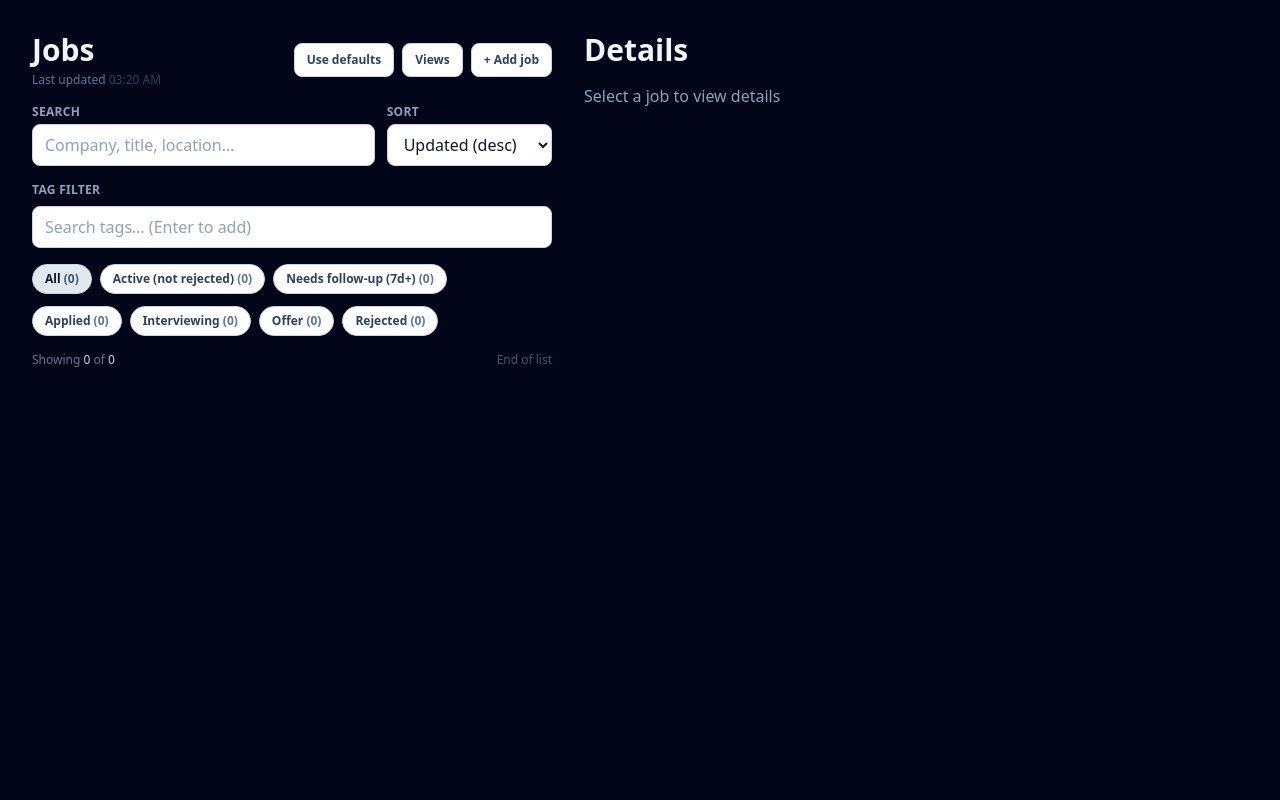
Test: JobsPage (auto-refresh) › does not auto refresh when a modal is open
This screenshot has width=1280, height=800.
Click the button "+ Add job".
click(511, 60)  # box [471,43,552,77]
Wait 1100 ms
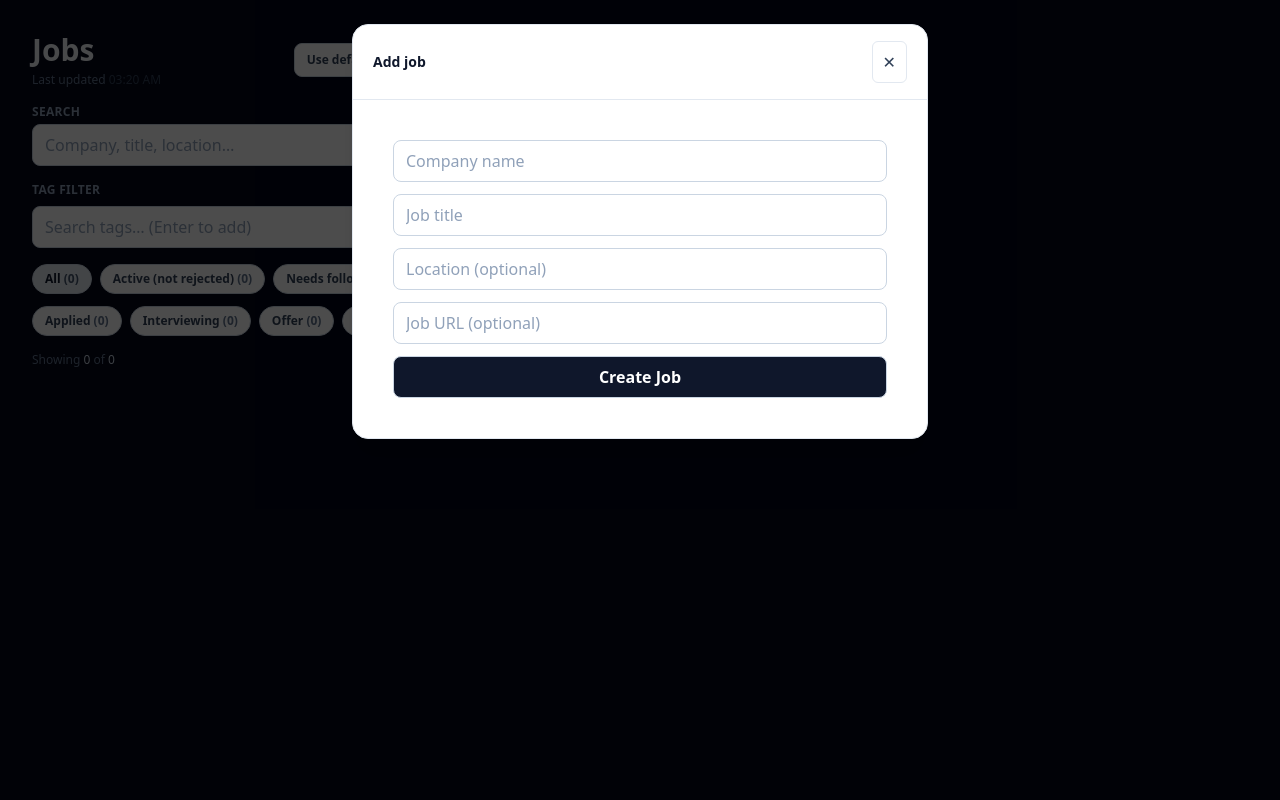
Result: the dialog "Add job" is shown at [352,24,928,439]
